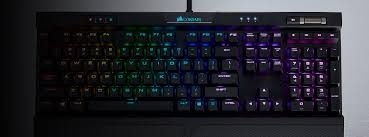keyboard: (37, 14, 342, 137)
